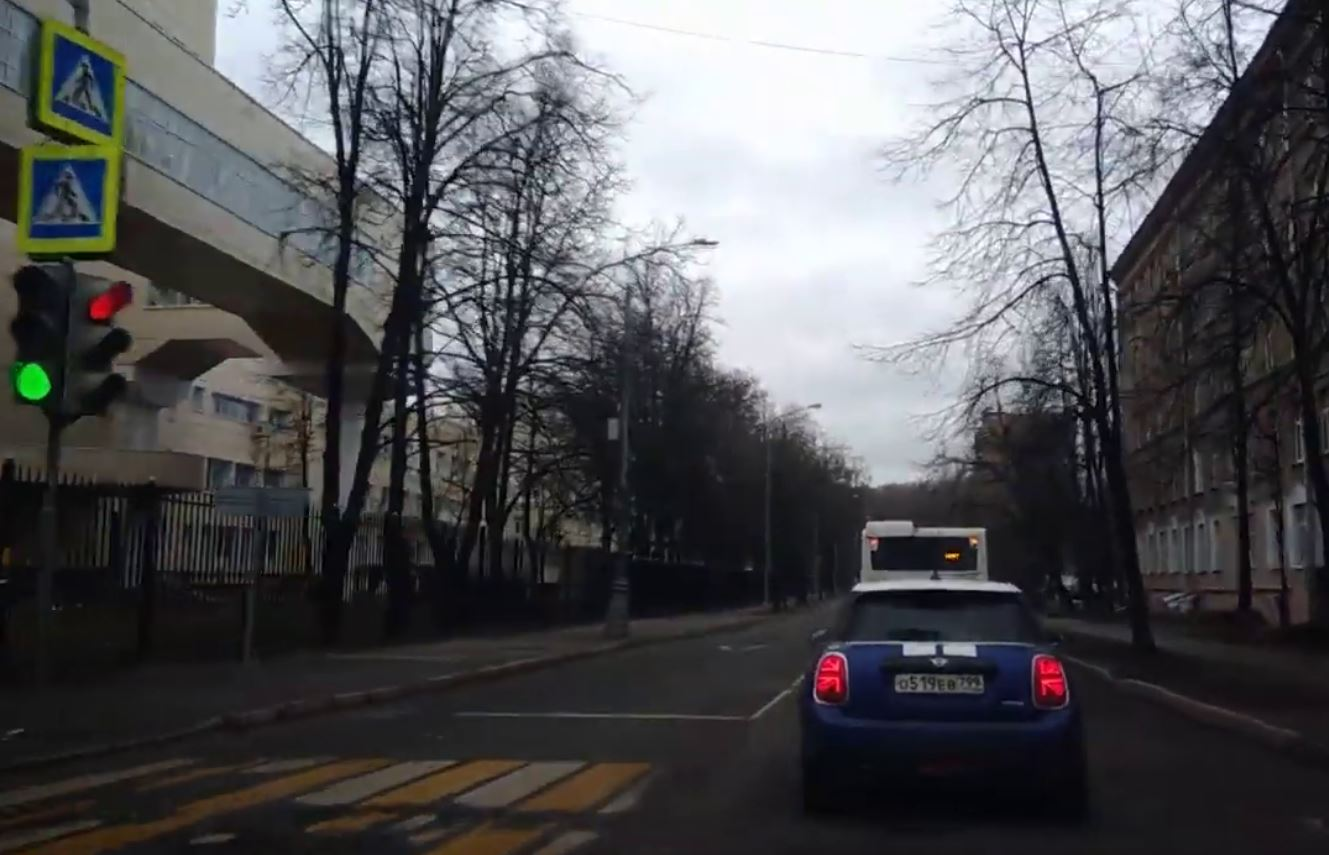Yaya Gecidi: (53, 35, 114, 133), (30, 163, 98, 243)
